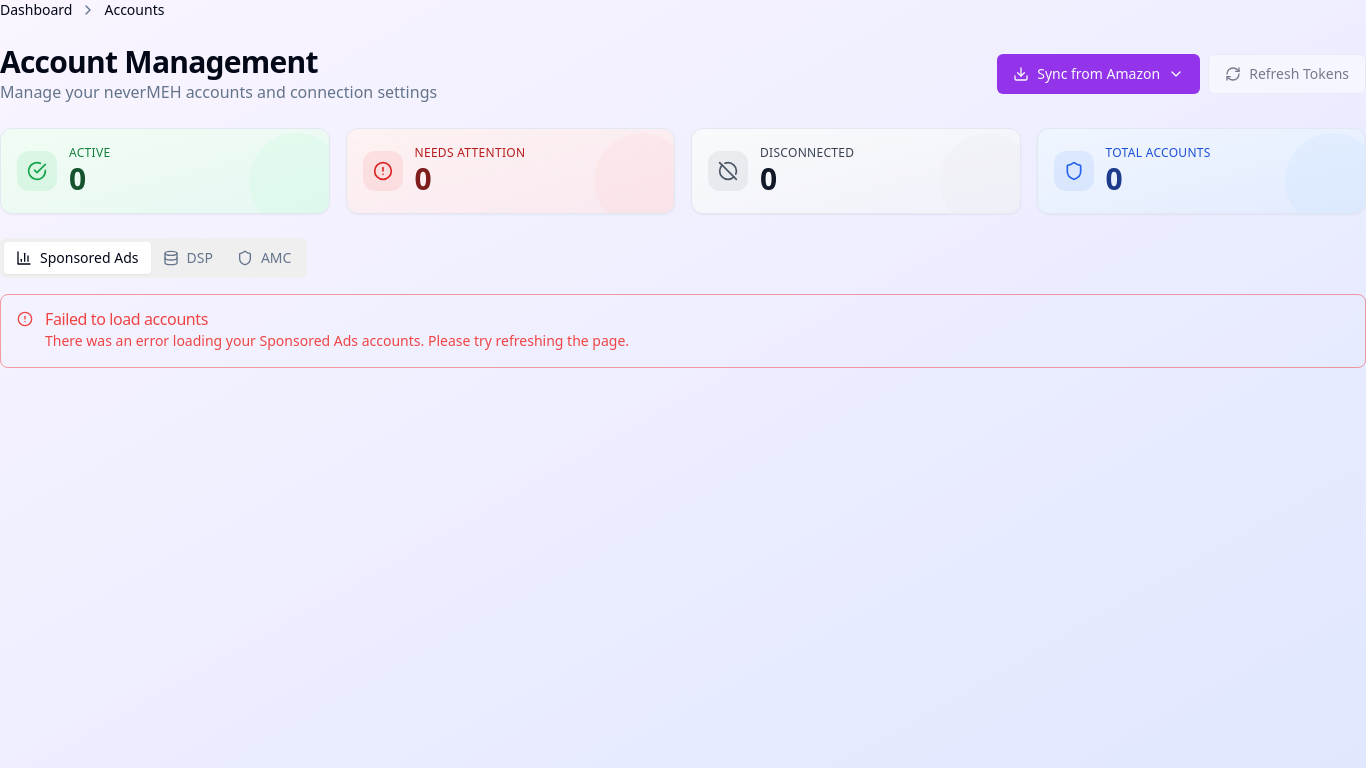
Test case: AccountManagementPage › Error Handling › should show permission denied message for AMC when user lacks access
Click the tab "AMC" at (264, 258), box [225,242,303,274]
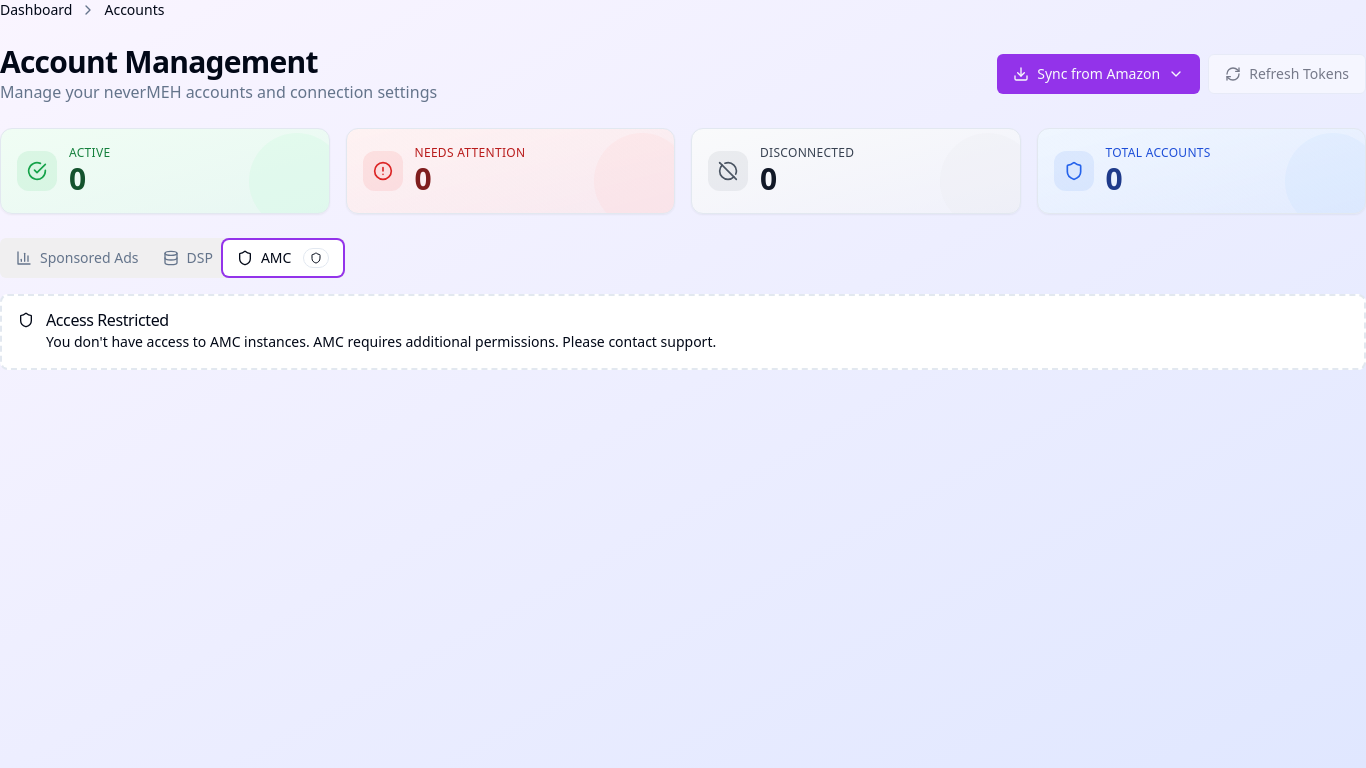
Result: the text "requires additional permissions" is shown at [46,332,716,351]
